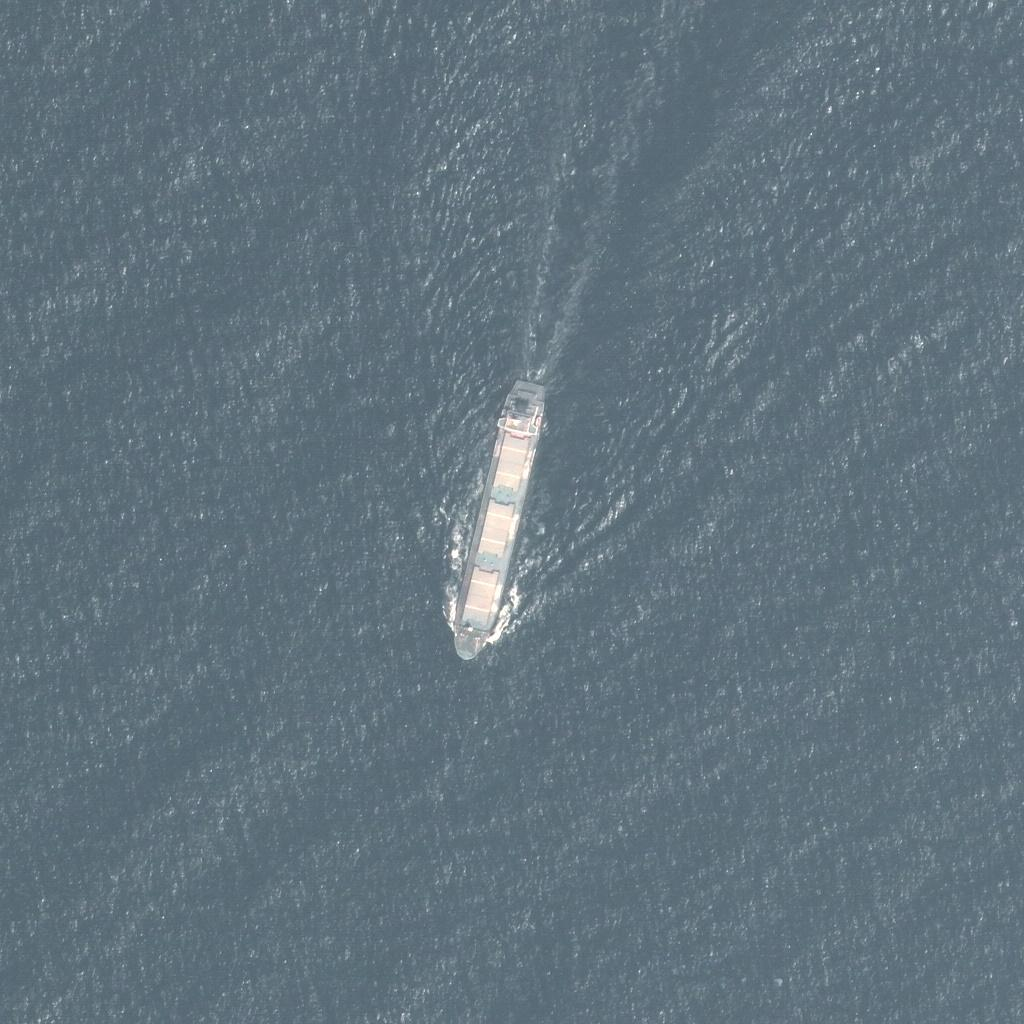ship: (446, 372, 550, 663)
